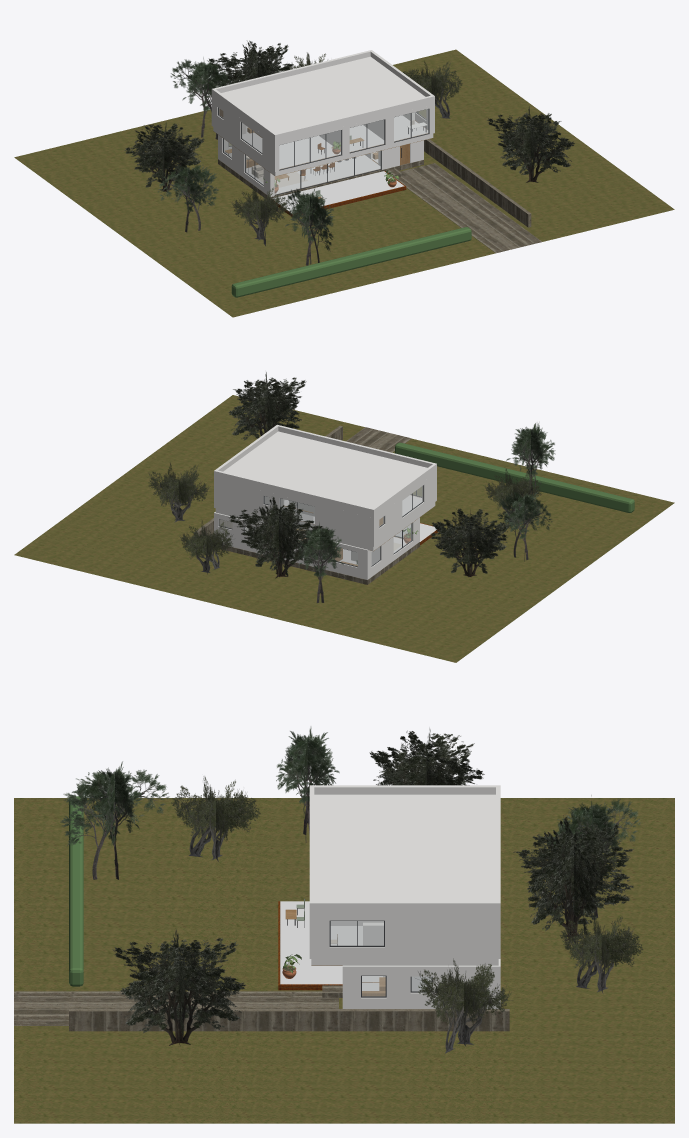
Rendered from casa.glb.
The picture shows the model from 3 angles, top to bottom: view 1: azimuth 30°, elevation 25°; view 2: azimuth 150°, elevation 25°; view 3: azimuth 270°, elevation 25°; orthographic projection. The views are drawn at different scales.
Parts seen in each view (by area): view 1: SITE_mesh, ROOF_mesh, F2_mesh, F1_mesh, NAV_F2_0, Tree2_a, Tree1_c, Win1_LDK_glass, NAV_F1_3, Tree2_b, Tree1_b, Win2_M_glass (+15 smaller); view 2: SITE_mesh, ROOF_mesh, F2_mesh, F1_mesh, Tree5_a, Tree1_a, Tree2_c, Tree1_c, Tree2_b, Tree5_b, Tree4_c, Tree6_b (+12 smaller); view 3: SITE_mesh, ROOF_mesh, F2_mesh, Tree2_c, F1_mesh, Tree5_b, Tree2_a, Tree3_b, Tree5_c, NAV_F1_3, Tree1_a, Tree4_a (+17 smaller).
Boxes of the visible parts, x1,y1,x2,y2 form: SITE_mesh: (14,49,674,317); ROOF_mesh: (211,50,434,143); F2_mesh: (211,97,434,171); F1_mesh: (218,135,423,199); NAV_F2_0: (242,115,428,168); Tree2_a: (487,113,574,182); Tree1_c: (124,123,204,191); Win1_LDK_glass: (275,151,380,194); NAV_F1_3: (272,171,404,212); Tree2_b: (500,112,561,182); Tree1_b: (135,124,193,191); Win2_M_glass: (279,130,340,169); SITE_mesh: (14,395,674,662); ROOF_mesh: (214,424,436,517); F2_mesh: (214,472,436,546); F1_mesh: (214,512,419,584); Tree5_a: (228,502,329,576); Tree1_a: (429,509,509,576); Tree2_c: (228,377,306,440); Tree1_c: (432,508,507,576); Tree2_b: (233,377,301,433); Tree5_b: (255,502,302,578); Tree4_c: (148,471,209,520); Tree6_b: (497,491,552,557); SITE_mesh: (14,796,674,1123); ROOF_mesh: (309,785,500,915); F2_mesh: (309,915,500,958); Tree2_c: (112,940,245,1044); F1_mesh: (342,959,500,1008); Tree5_b: (513,825,634,936); Tree2_a: (120,938,238,1045); Tree3_b: (60,770,169,879); Tree5_c: (527,820,620,940); NAV_F1_3: (280,901,342,984); Tree1_a: (369,730,484,785); Tree4_a: (415,969,512,1044).
Size of the model in its own units: 42 by 8.67 by 36.
Materials: 38 (17 with a texture image).
